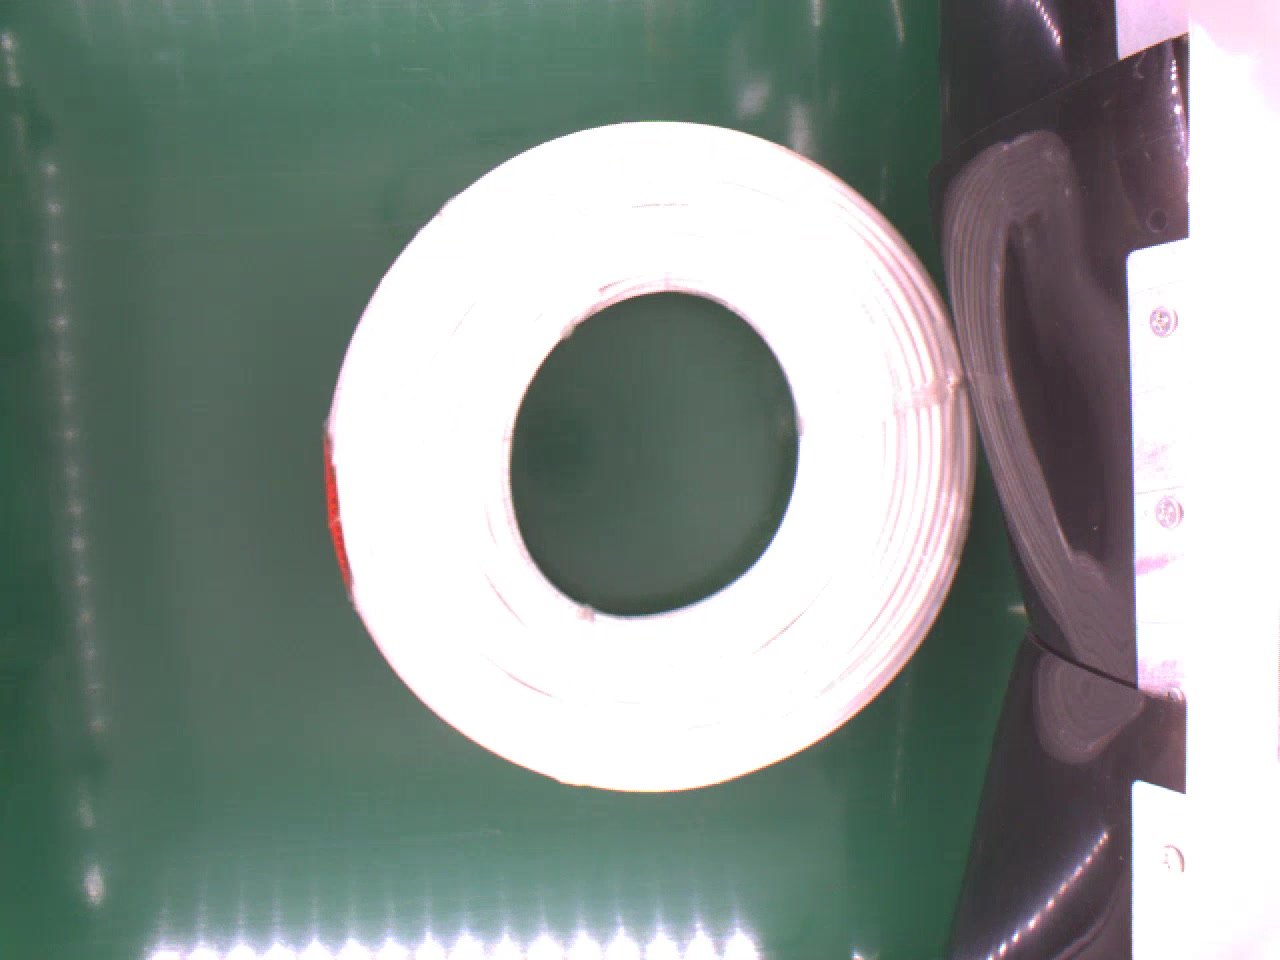white: (321, 115, 979, 792)
